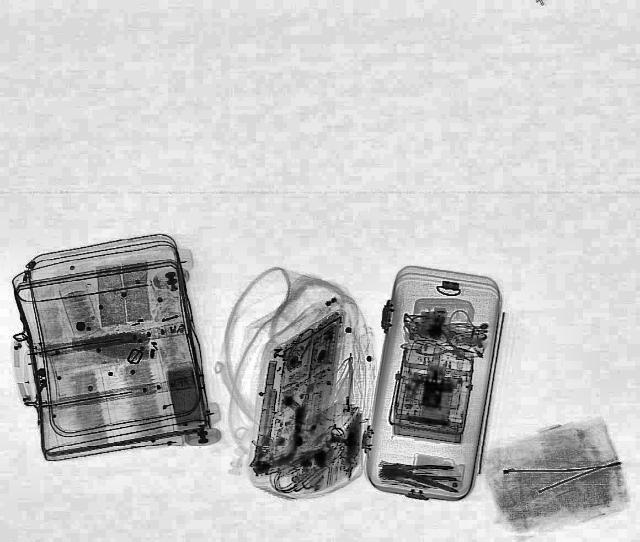Pliers: (412, 324, 482, 370), (382, 462, 458, 482)
